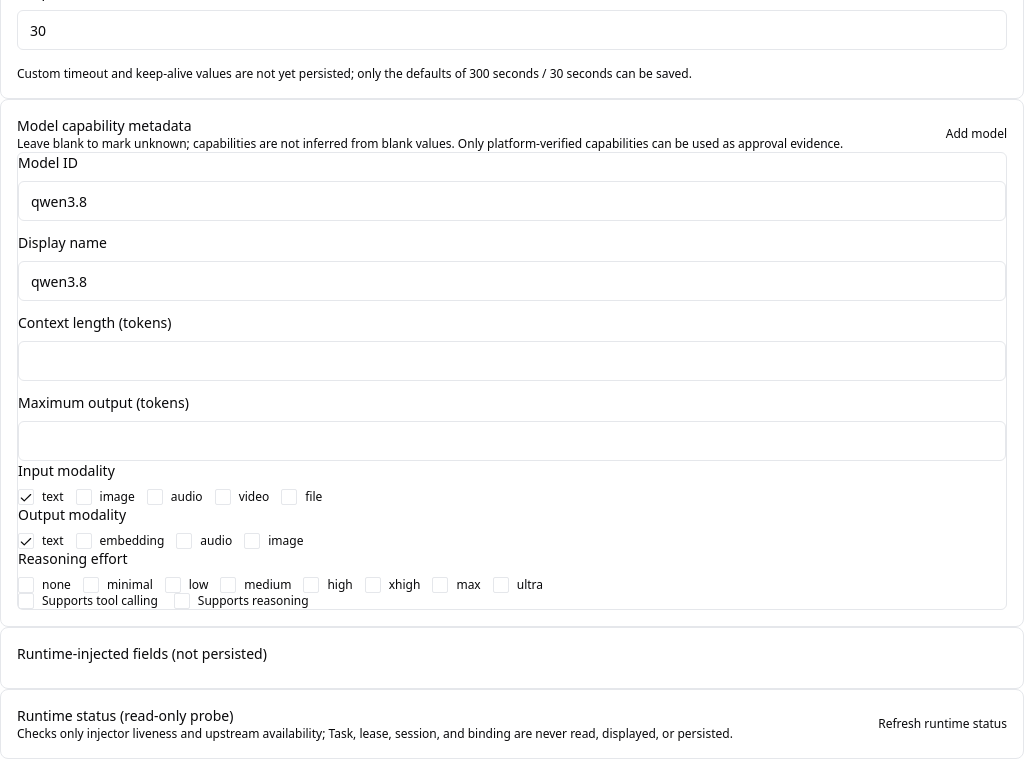
Test: TeProviderFields › reads the runtime status without ever showing task/lease/binding values
The image size is (1024, 759).
(page scrolled)
Click the button with test id "te-refresh-runtime" at (943,724), box [878,716,1007,732]
(page scrolled)
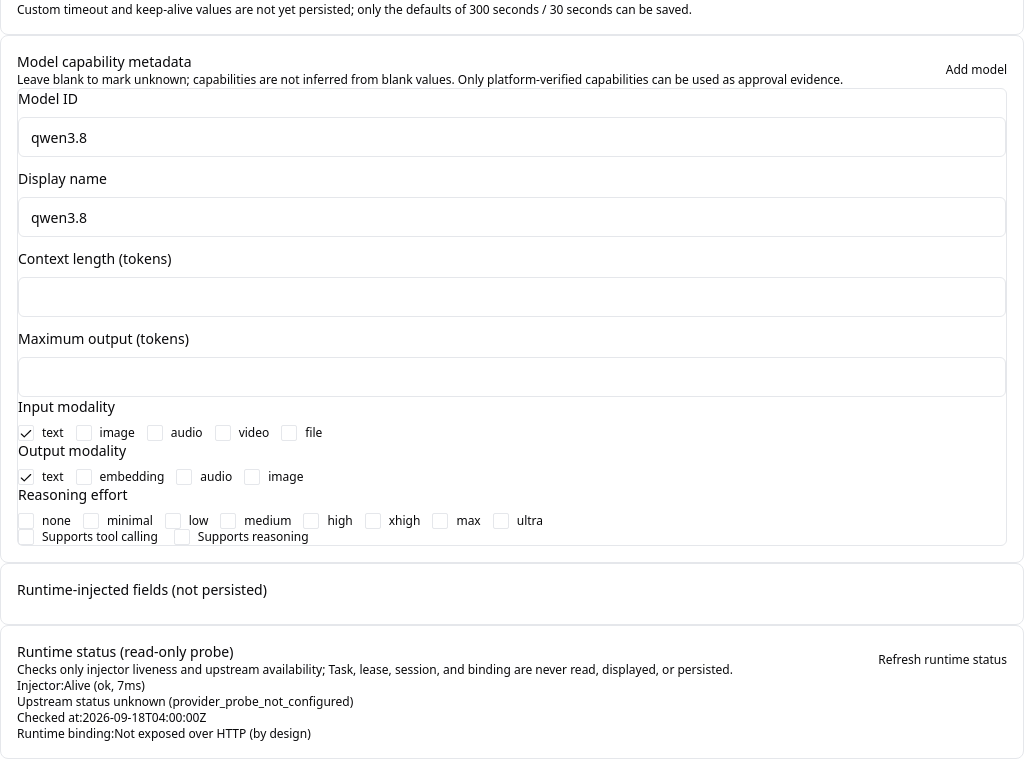
expect the list with test id "te-runtime-summary" is shown: met, box [17,677,353,742]
expect the list with test id "te-runtime-summary" shows "Alive": met, box [64,677,145,694]
expect the list with test id "te-runtime-summary" shows "Upstream status unknown": met, box [17,693,353,710]
